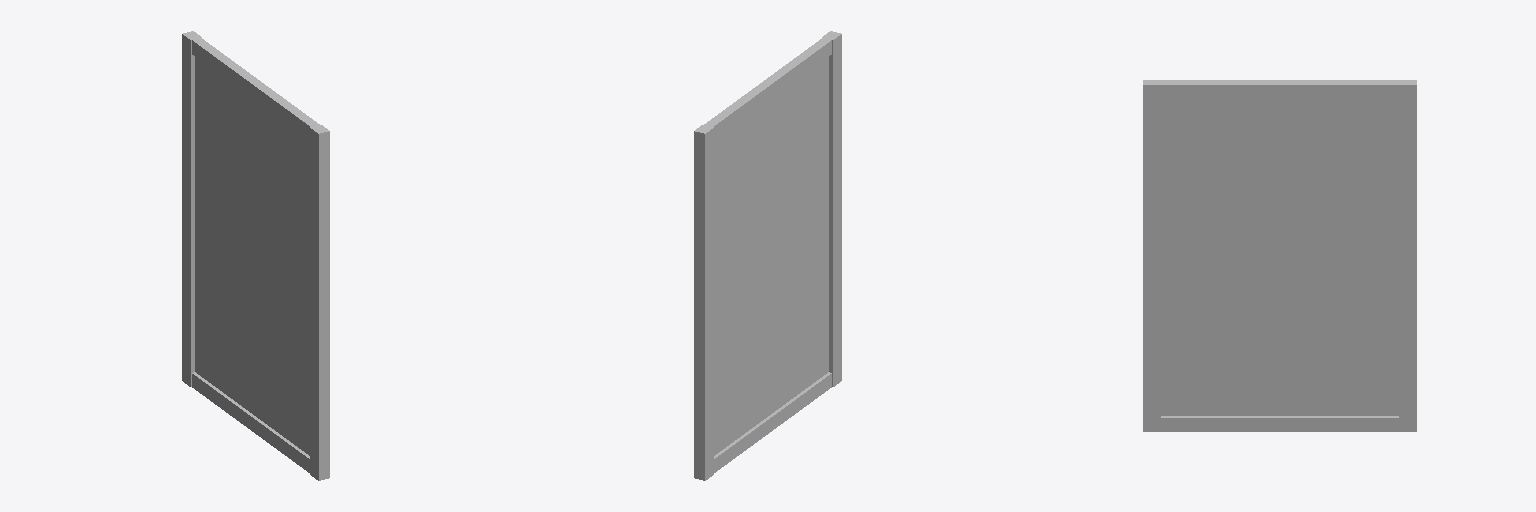
Rendered from MultimediaWall2.obj.
The picture shows the model from 3 angles: view 1: azimuth 30°, elevation 25°; view 2: azimuth 150°, elevation 25°; view 3: azimuth 270°, elevation 25°; orthographic projection.
Parts seen in each view (by area): view 1: Box013; view 2: Box013; view 3: Box013.
Part boxes in pixels (x1,y1,x2,y2): Box013: (182,31,329,480); Box013: (694,31,841,480); Box013: (1143,80,1416,431).
Size of the model in its own units: 11.95 by 341 by 244.